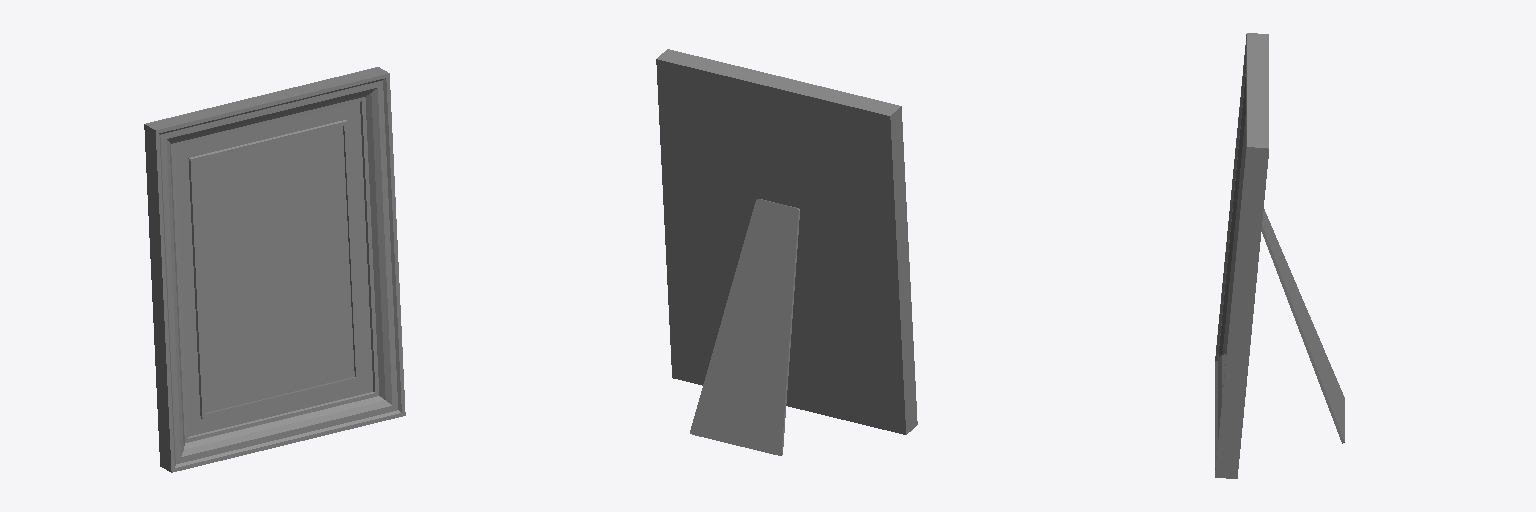
File: SM_frame_01.obj
3 views of the same model, side by side, from view 1: azimuth 30°, elevation 25°; view 2: azimuth 150°, elevation 25°; view 3: azimuth 270°, elevation 25° (orthographic).
Visible parts, largest first — view 1: frame_01; view 2: frame_01; view 3: frame_01.
Part boxes in pixels (left/top/right/bottom): frame_01: left=144, top=67, right=405, bottom=472; frame_01: left=656, top=49, right=917, bottom=455; frame_01: left=1215, top=33, right=1344, bottom=478.
Size of the model in its own units: 15.81 by 21.46 by 7.63.